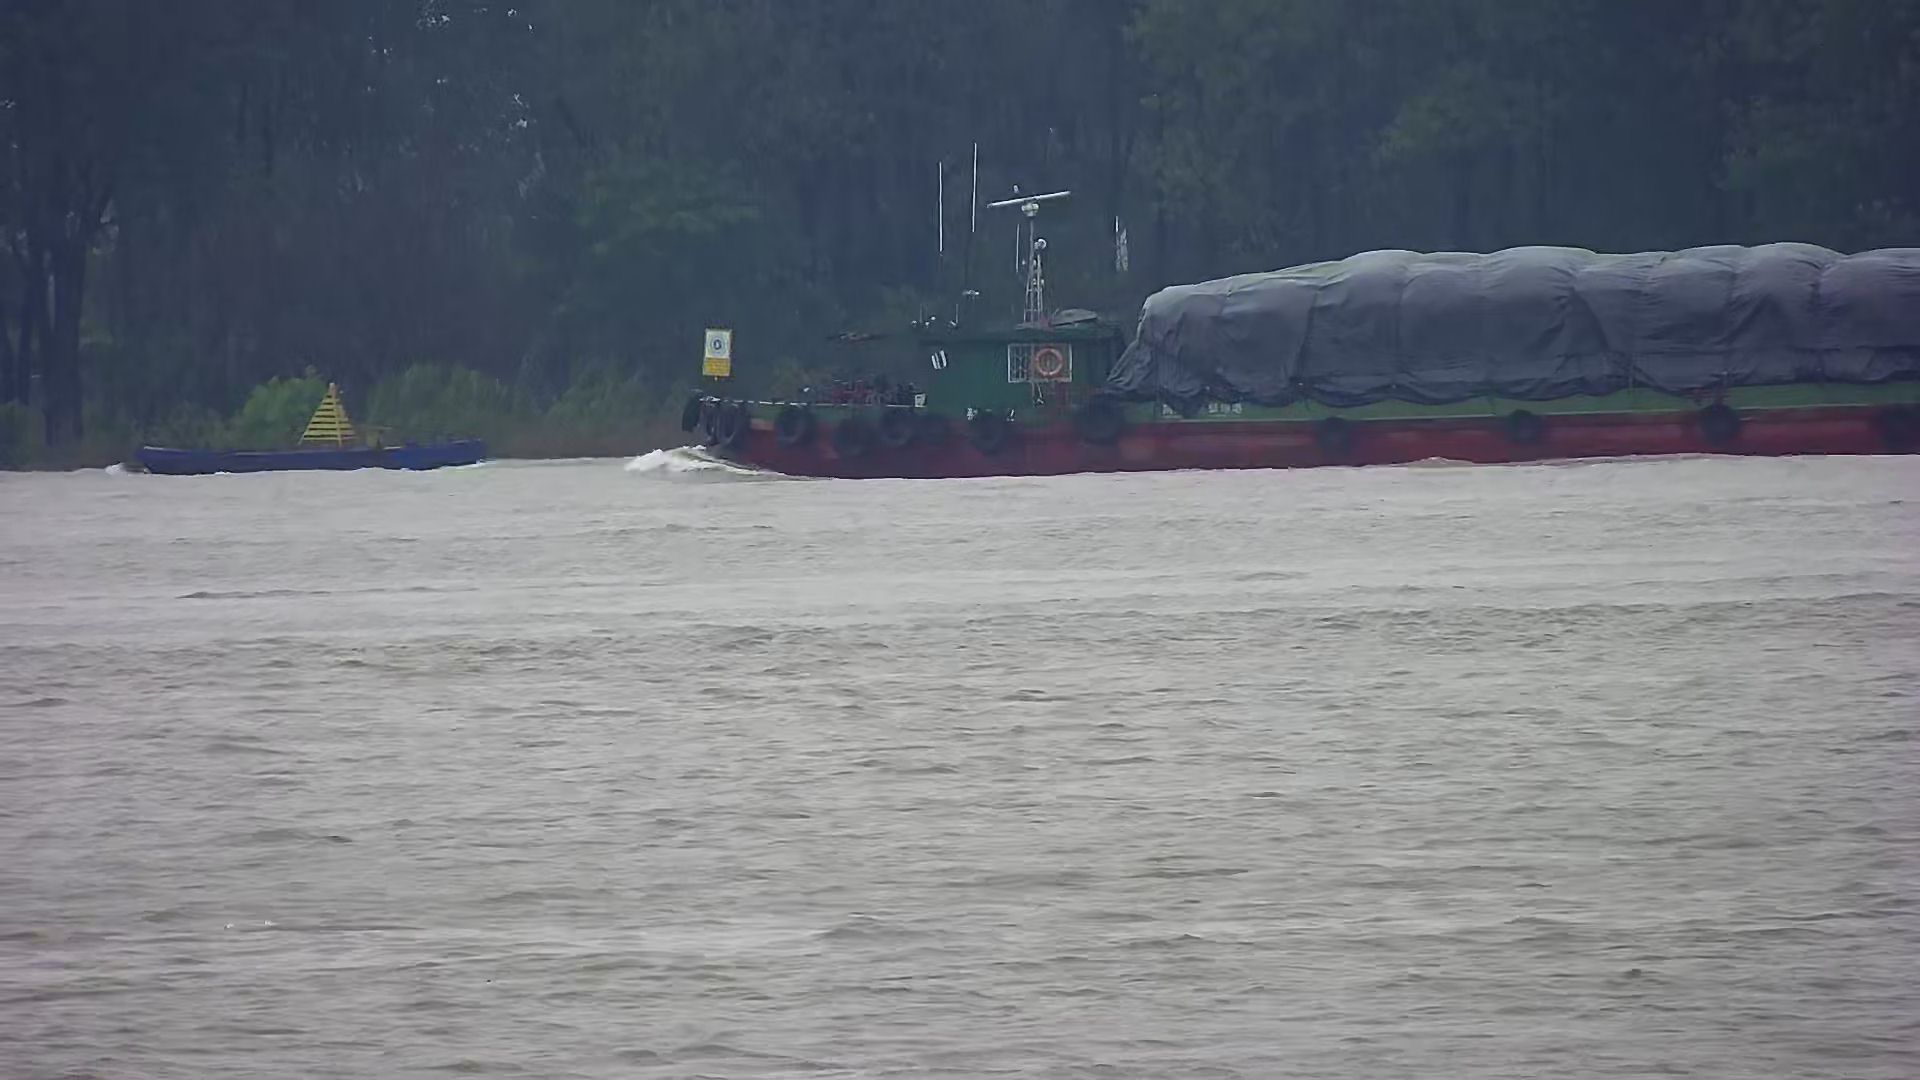boat: (136, 382, 491, 469)
mast: (702, 328, 732, 394)
ship: (680, 191, 1920, 483)
